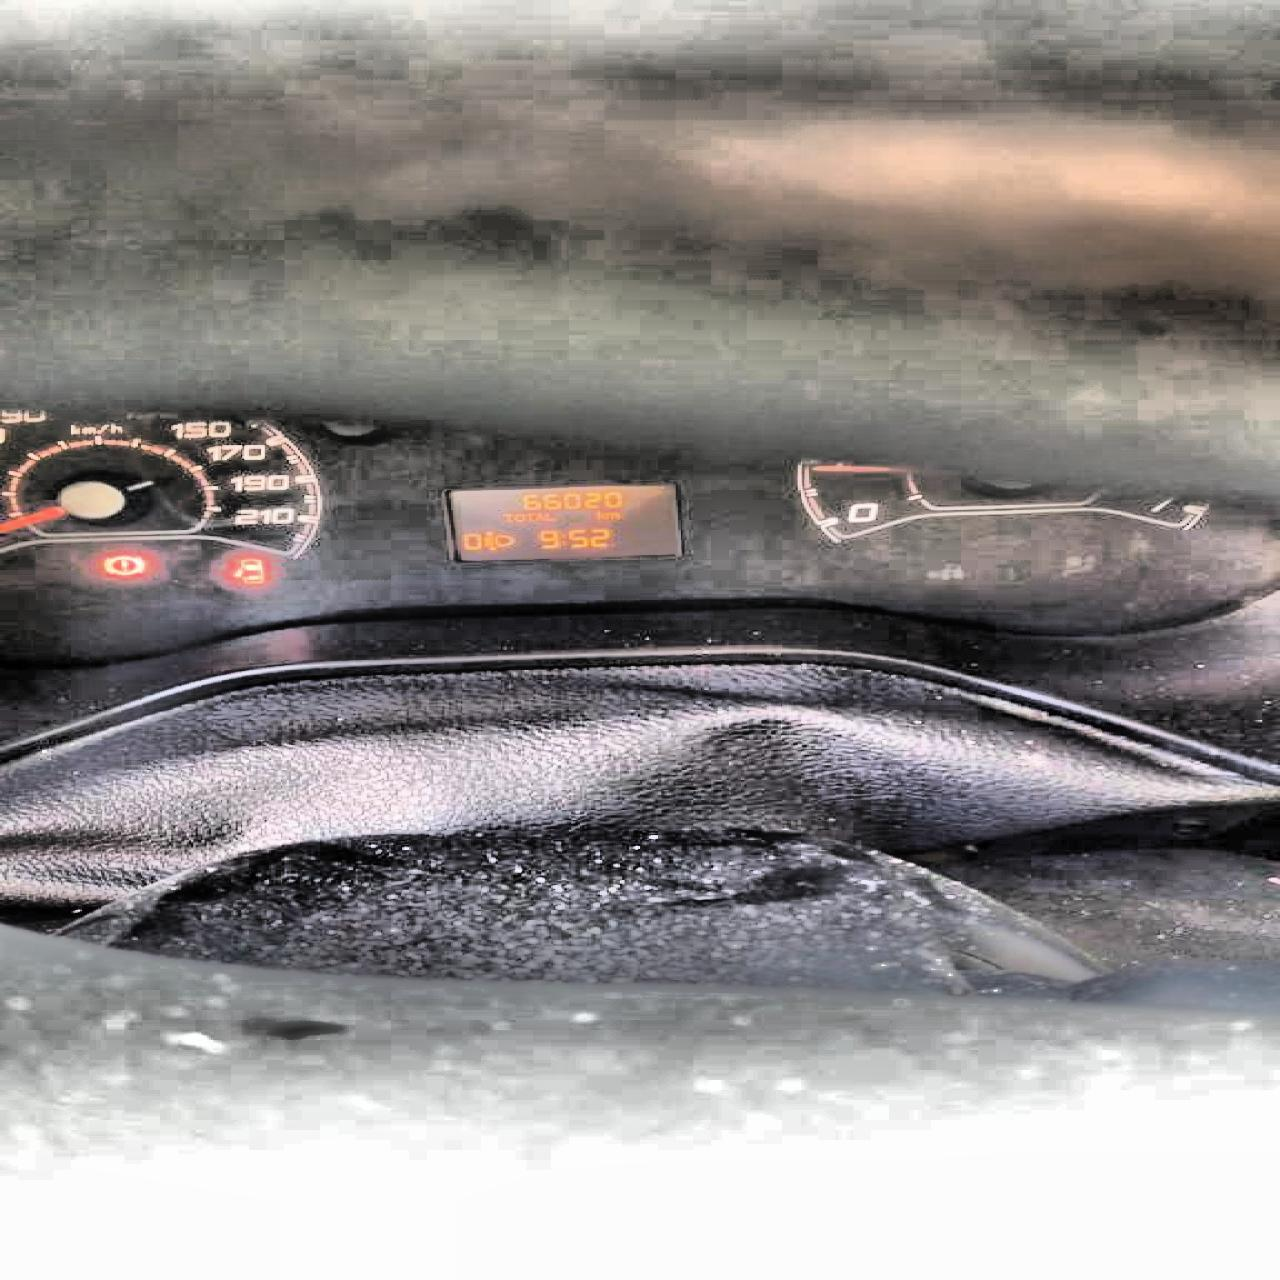0: (458, 531, 481, 550), (600, 490, 622, 508), (560, 492, 580, 509)
2: (587, 527, 610, 547), (580, 492, 600, 508)
5: (565, 527, 586, 549)
6: (518, 492, 540, 510), (540, 492, 560, 509)
9: (533, 529, 558, 549)
X: (605, 511, 620, 520), (511, 512, 525, 522), (593, 509, 605, 519), (501, 512, 511, 522), (543, 512, 553, 522), (558, 532, 564, 547), (533, 512, 543, 519), (524, 512, 533, 519)
odometer: (429, 476, 693, 565)
